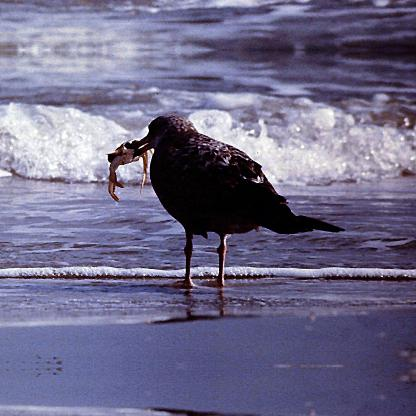Bird: (96, 115, 346, 286)
